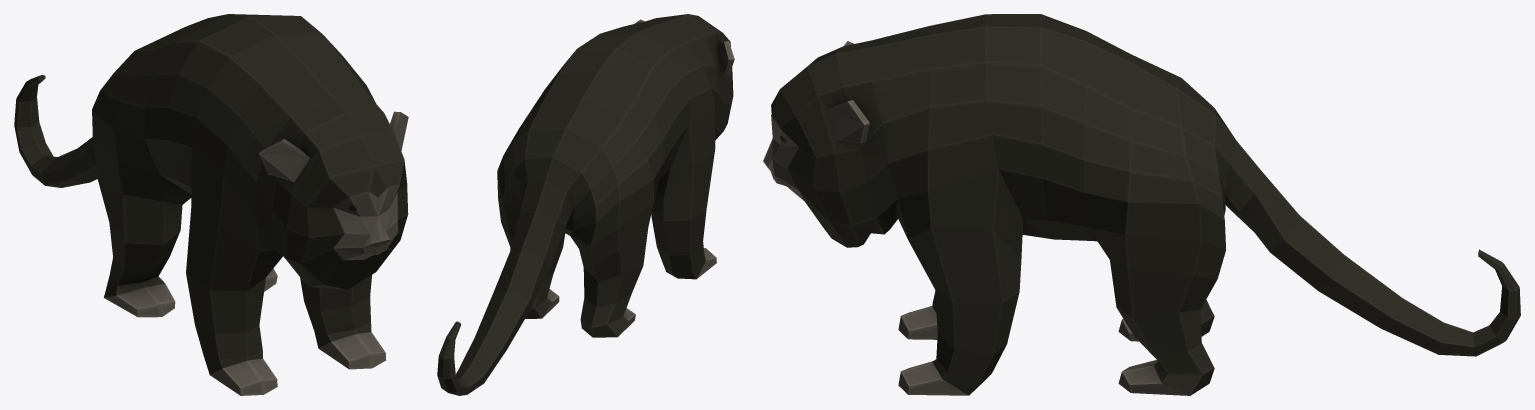
Rendered from bdb8083c-ce29-464e-825b-057aa7d90d4c.glb.
3 renders of one model, left to right at view 1: azimuth 30°, elevation 25°; view 2: azimuth 150°, elevation 25°; view 3: azimuth 270°, elevation 25°, orthographic. The views are drawn at different scales.
Parts seen in each view (by area): view 1: HowlerMonkey_mesh; view 2: HowlerMonkey_mesh; view 3: HowlerMonkey_mesh.
Boxes of the visible parts, bbox=[...] form: HowlerMonkey_mesh: bbox=[14, 14, 408, 395]; HowlerMonkey_mesh: bbox=[437, 14, 734, 395]; HowlerMonkey_mesh: bbox=[763, 14, 1520, 395].
Bounding box in the file's own units: 6.58 × 10.67 × 22.12.
1 material, 1 textured.
